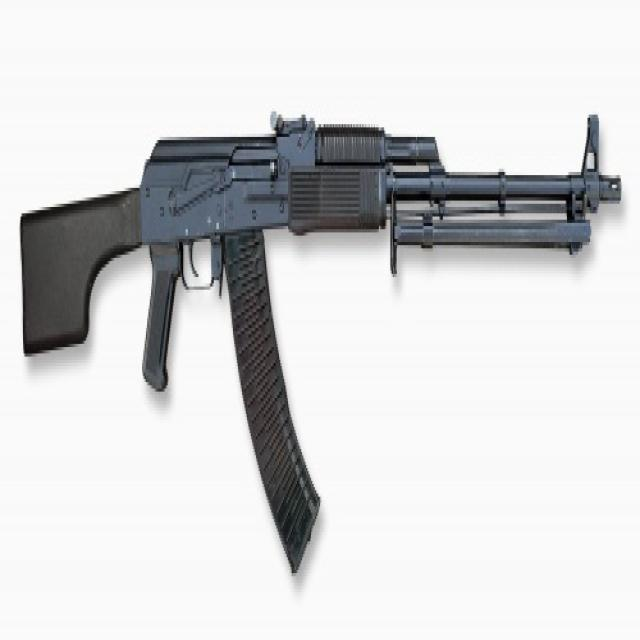rifle: (15, 97, 628, 580)
